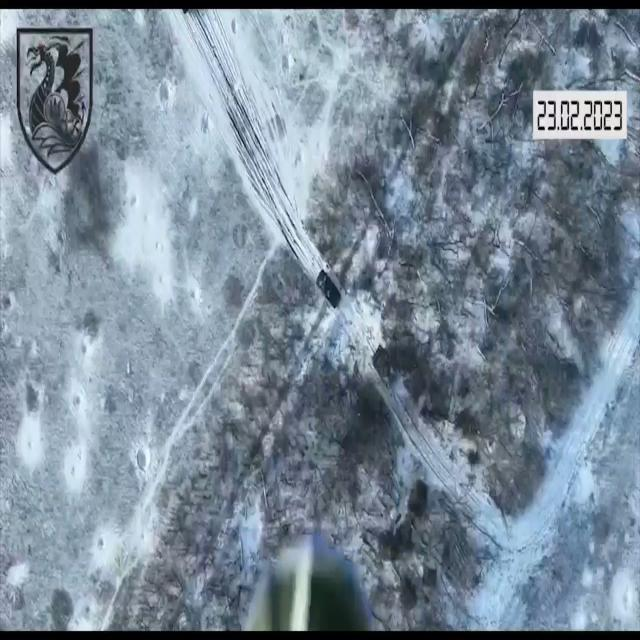cars: (316, 269, 341, 309)
tank: (371, 345, 397, 388)
